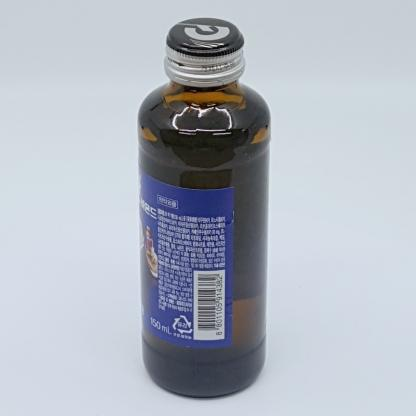---------------150ML: (137, 18, 270, 398)
